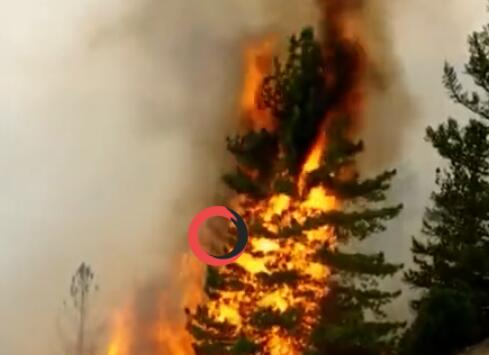fire: (218, 22, 367, 352), (110, 258, 229, 351)
